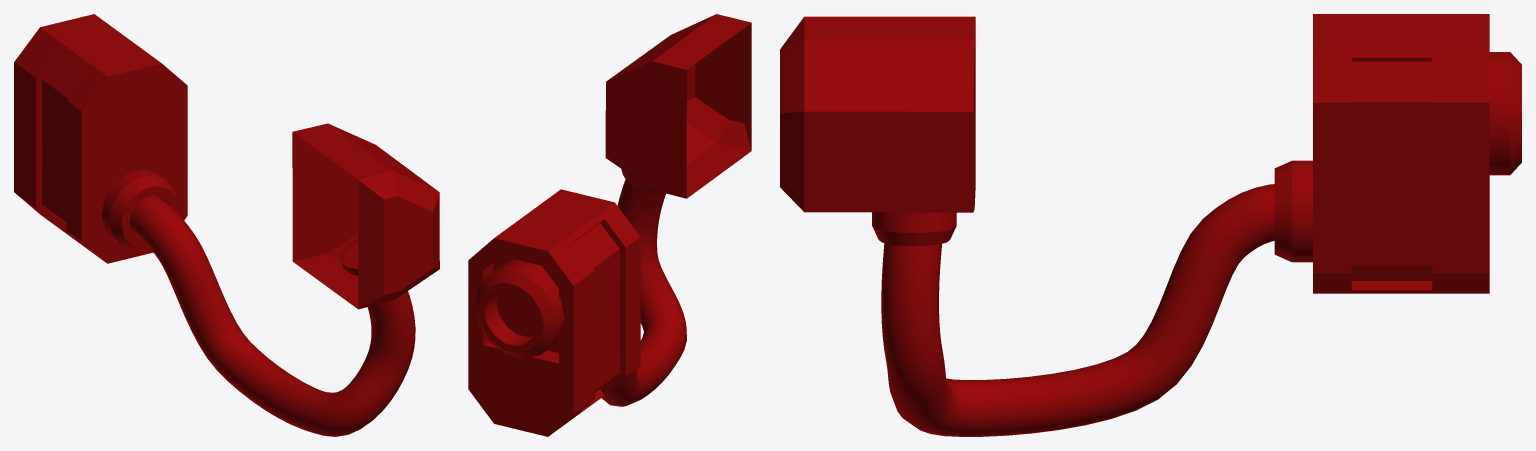
Rendered from M_weapon_light_mod.FBX.
3 renders of one model, left to right at view 1: azimuth 30°, elevation 25°; view 2: azimuth 150°, elevation 25°; view 3: azimuth 270°, elevation 25°, orthographic. The views are drawn at different scales.
Parts seen in each view (by area): view 1: Light_low; view 2: Light_low; view 3: Light_low.
Part boxes in pixels (x1=…): Light_low: x1=14, y1=14, x2=439, y2=436; Light_low: x1=468, y1=14, x2=751, y2=436; Light_low: x1=780, y1=14, x2=1521, y2=436.
Size of the model in its own units: 23.55 by 65.07 by 38.93.
